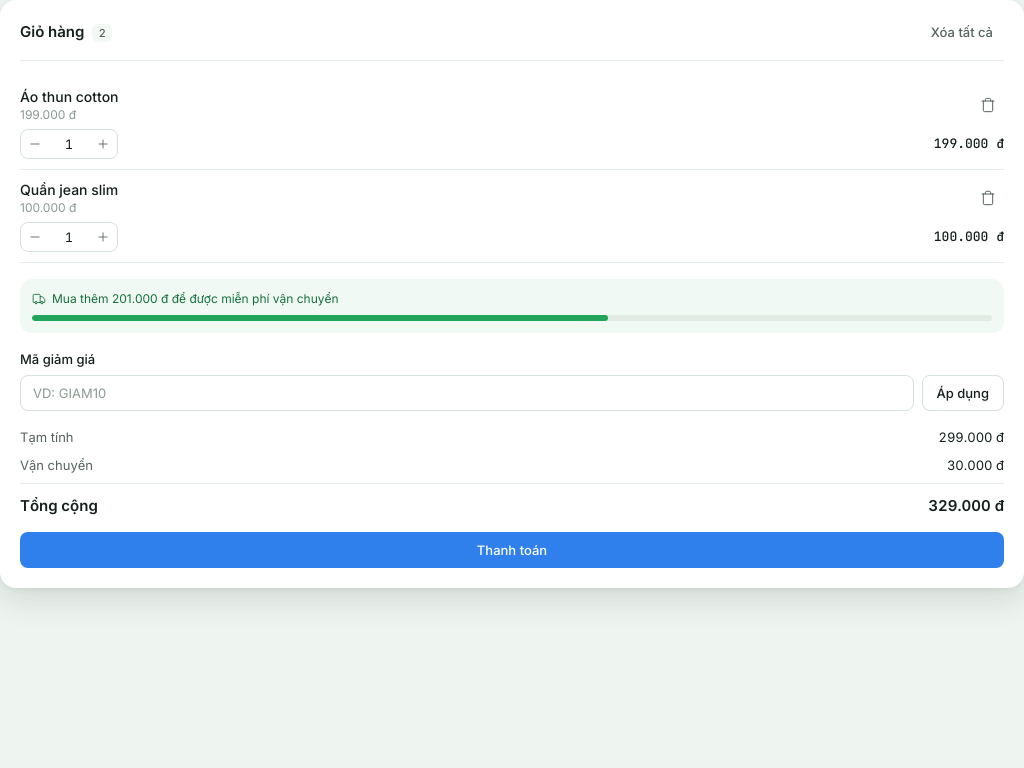
Test case: <CartSummary /> › tăng số lượng cập nhật tổng tiền và khoá nút khi đạt tồn kho
Click the button named "Tăng số lượng Quần jean slim": {"x": 103, "y": 237} [89, 223, 117, 251]
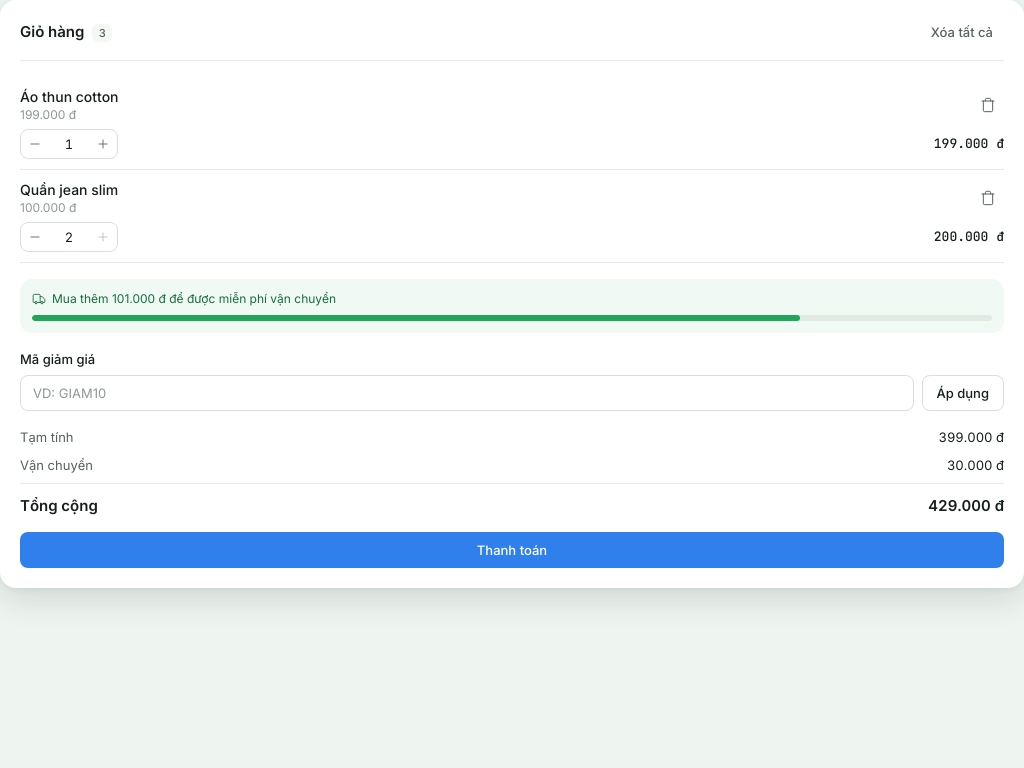
Result: the number field named "Số lượng Quần jean slim" holds "2" at [49, 223, 89, 251]
Result: the text named "Tổng cộng" reads "429.000 đ" at [928, 496, 1004, 515]
